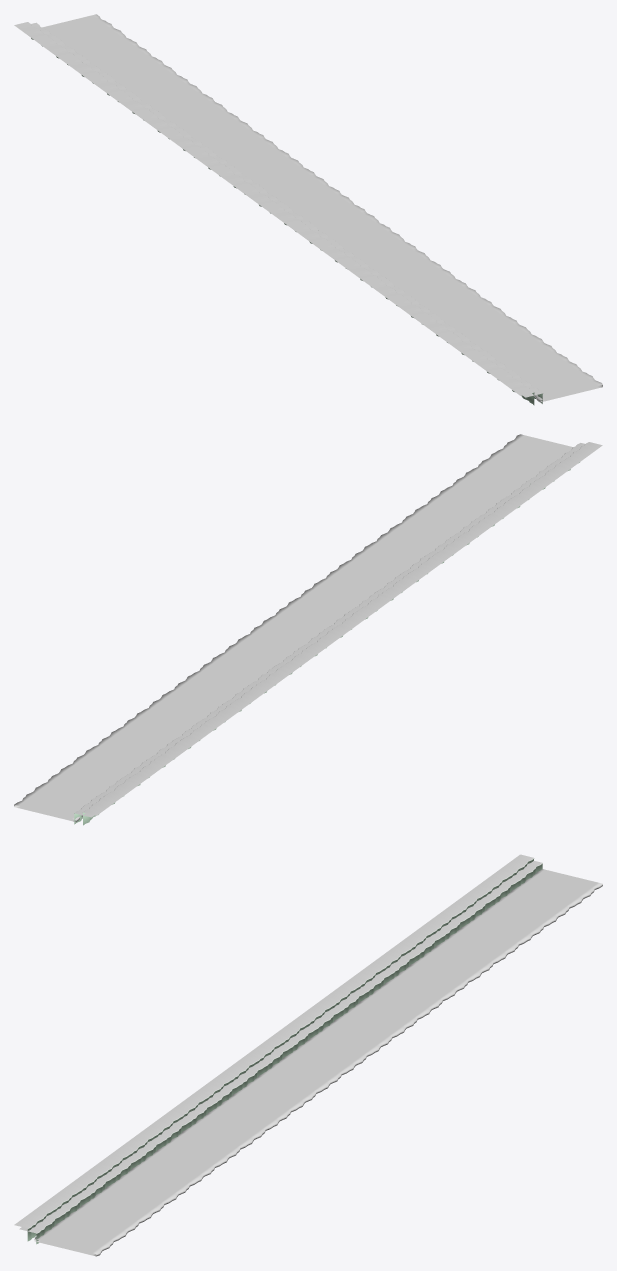
The model's file is PathStraightRWall(200m).fbx.
3 renders of one model, top to bottom at view 1: azimuth 30°, elevation 25°; view 2: azimuth 150°, elevation 25°; view 3: azimuth 330°, elevation 25°, orthographic.
Parts seen in each view (by area): view 1: Cube.021; view 2: Cube.021; view 3: Cube.021.
Boxes of the visible parts, box(x1,y1,x2,y2) form: Cube.021: box(14, 14, 602, 405); Cube.021: box(14, 434, 602, 825); Cube.021: box(14, 854, 602, 1256).
Bounding box in the file's own units: 1922 × 309 × 20113.
